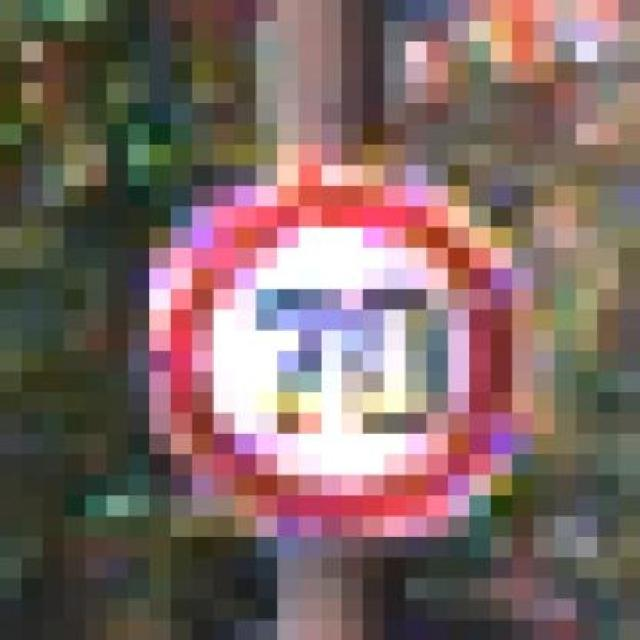forb_speed_over_70: (165, 182, 514, 524)
